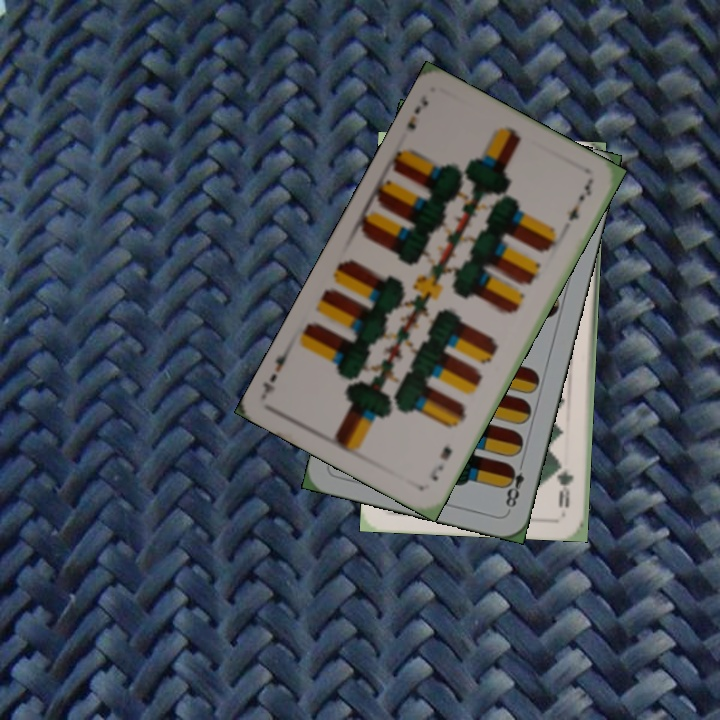E7: (425, 441, 455, 484), (403, 91, 431, 133)
E8: (500, 455, 527, 513)
G9: (555, 458, 576, 510)
